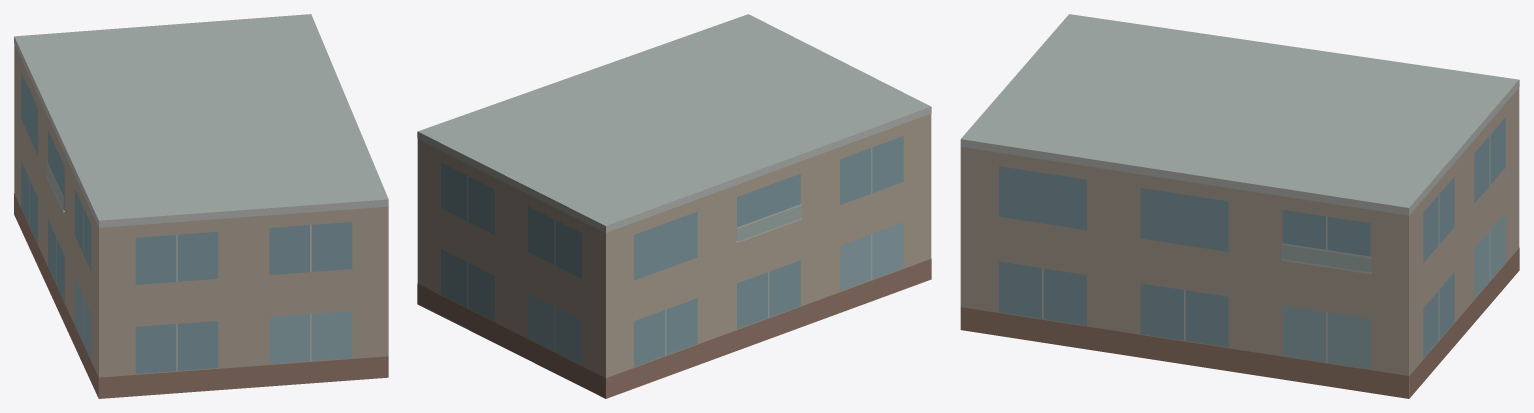
File: survey-upis-32659016.glb
The picture shows the model from 3 angles, left to right: view 1: azimuth 30°, elevation 25°; view 2: azimuth 150°, elevation 25°; view 3: azimuth 270°, elevation 25°; orthographic projection. The views are drawn at different scales.
Visible parts, largest first — view 1: survey-upis-32659016.tmp; view 2: survey-upis-32659016.tmp; view 3: survey-upis-32659016.tmp.
Boxes of the visible parts, bbox=[...] form: survey-upis-32659016.tmp: bbox=[14, 14, 388, 398]; survey-upis-32659016.tmp: bbox=[417, 14, 931, 398]; survey-upis-32659016.tmp: bbox=[960, 14, 1519, 398].
Bounding box in the file's own units: 13.31 × 6.1 × 16.2.
